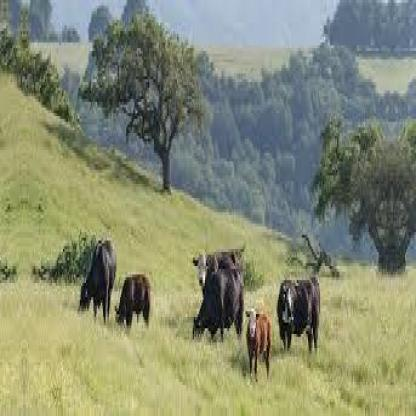cow: (191, 266, 246, 345), (276, 278, 322, 360), (77, 239, 117, 327), (113, 272, 153, 334), (193, 249, 247, 289), (246, 306, 272, 385)
